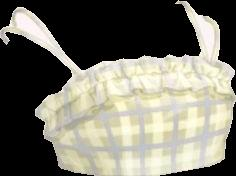Bodice: (0, 1, 235, 175)
Neckline: (15, 1, 205, 75)
Waistline: (56, 154, 226, 175)
